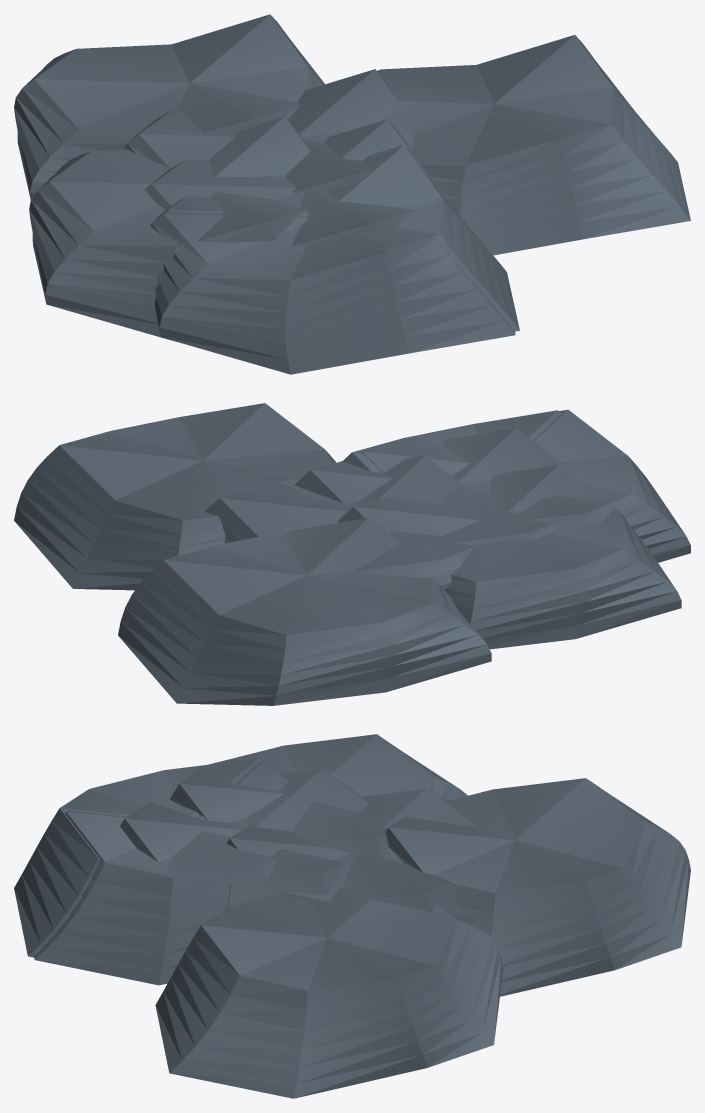
Rendered from iron-debris.glb.
The picture shows the model from 3 angles, top to bottom: view 1: azimuth 30°, elevation 25°; view 2: azimuth 150°, elevation 25°; view 3: azimuth 270°, elevation 25°; orthographic projection. The views are drawn at different scales.
Bounding box in the file's own units: 5.62 × 0.8365 × 5.3.
